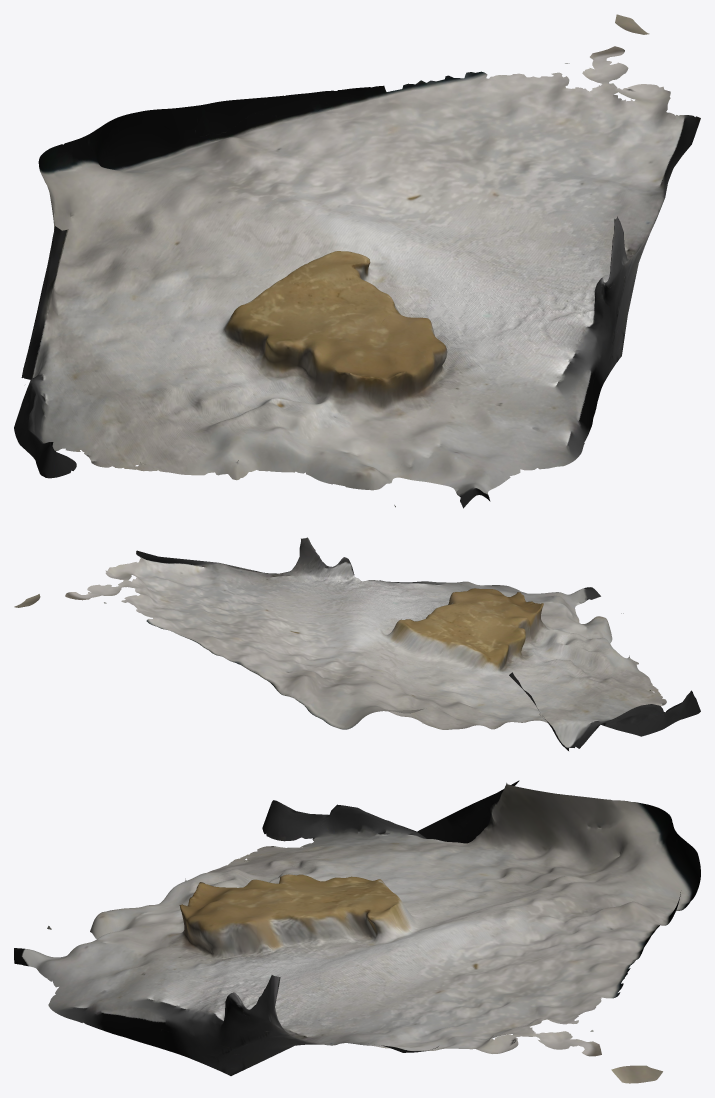
3 renders of one model, top to bottom at view 1: azimuth 30°, elevation 25°; view 2: azimuth 150°, elevation 25°; view 3: azimuth 270°, elevation 25°, orthographic. The views are drawn at different scales.
Size of the model in its own units: 0.7846 by 0.1101 by 0.6302.
1 material, 1 textured.
